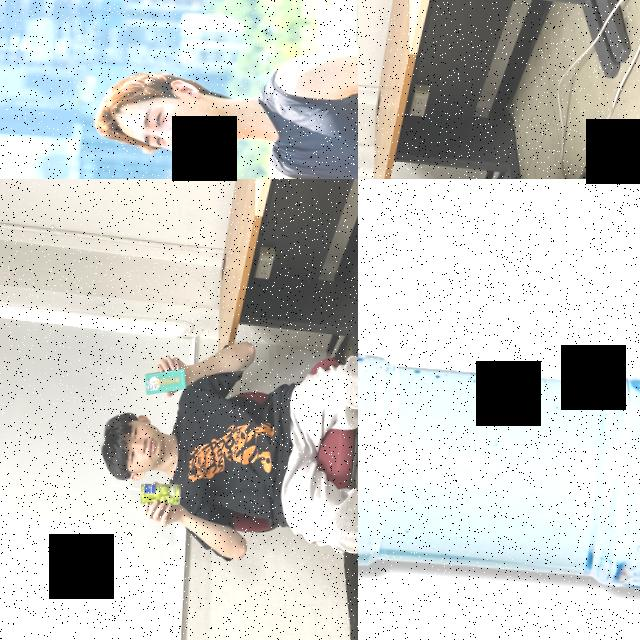bottle: (358, 335, 640, 597), (176, 133, 241, 179), (138, 479, 182, 506)
